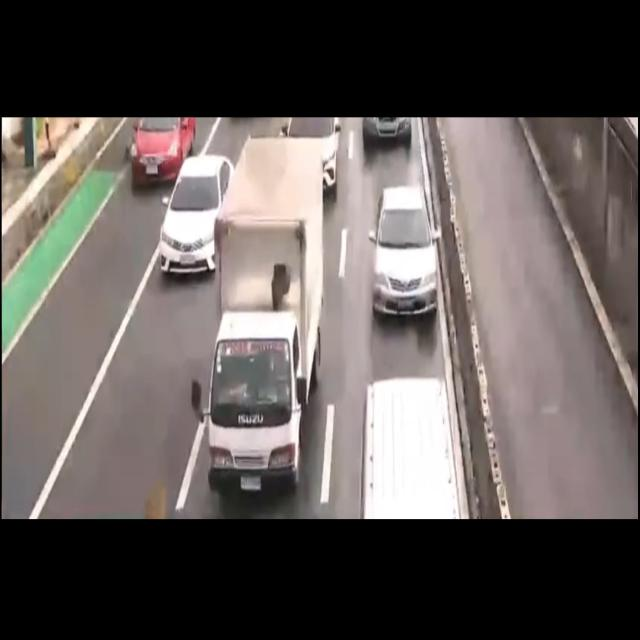Sedan: (371, 182, 438, 317), (161, 157, 230, 274), (128, 116, 192, 191)
Truck: (210, 135, 322, 492)
Van: (353, 374, 465, 518)
